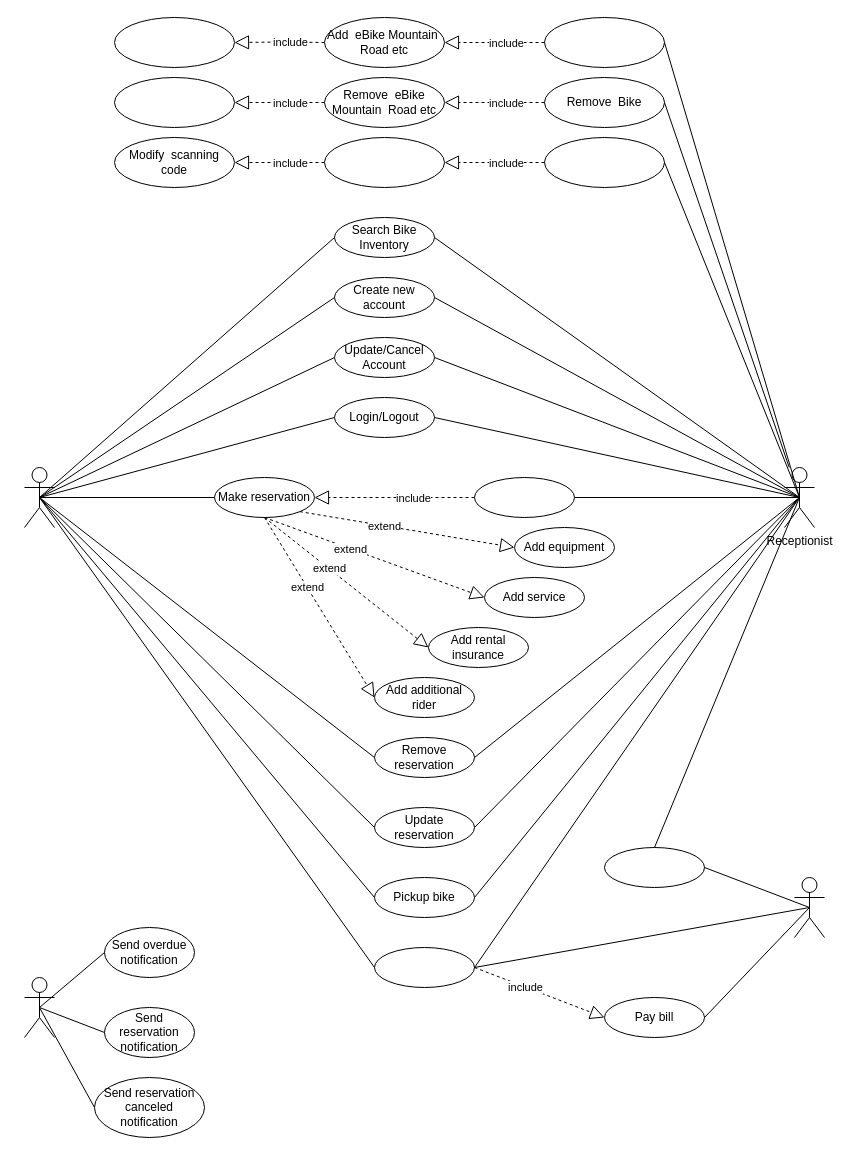
This 850x1155 diagram has some shape labels left out. Each missing label, with the centre of its shape:
"Add Bike" goes at (x=604, y=42).
"Add scanning code" goes at (x=174, y=42).
"Create reservation" goes at (x=524, y=497).
"Member" goes at (x=39, y=497).
"Modify Bike" goes at (x=604, y=162).
"Modify eBike Mountain Road etc" goes at (x=384, y=162).
"Remove scanning code" goes at (x=174, y=102).
"Return bike" goes at (x=424, y=967).
"System" goes at (x=39, y=1007).
"Update bike log" goes at (x=654, y=867).
"Worker" goes at (x=809, y=907).
